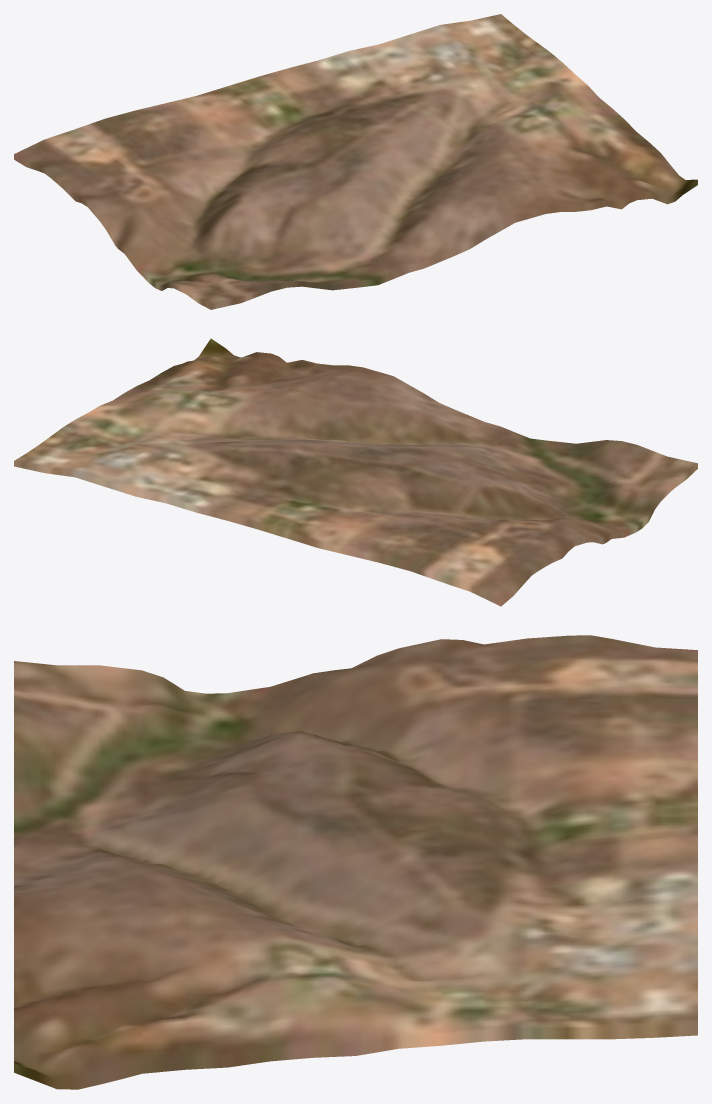
File: terrain_r4_c0_lod2.glb
The picture shows the model from 3 angles, top to bottom: view 1: azimuth 30°, elevation 25°; view 2: azimuth 150°, elevation 25°; view 3: azimuth 270°, elevation 25°; orthographic projection. The views are drawn at different scales.
Parts seen in each view (by area): view 1: terrain_r4_c0_lod2; view 2: terrain_r4_c0_lod2; view 3: terrain_r4_c0_lod2.
Part boxes in pixels (<box>): terrain_r4_c0_lod2: <box>14,14,697,309</box>; terrain_r4_c0_lod2: <box>14,338,697,606</box>; terrain_r4_c0_lod2: <box>14,635,697,1089</box>.
Size of the model in its own units: 1125 by 123 by 787.
1 material, 1 textured.
